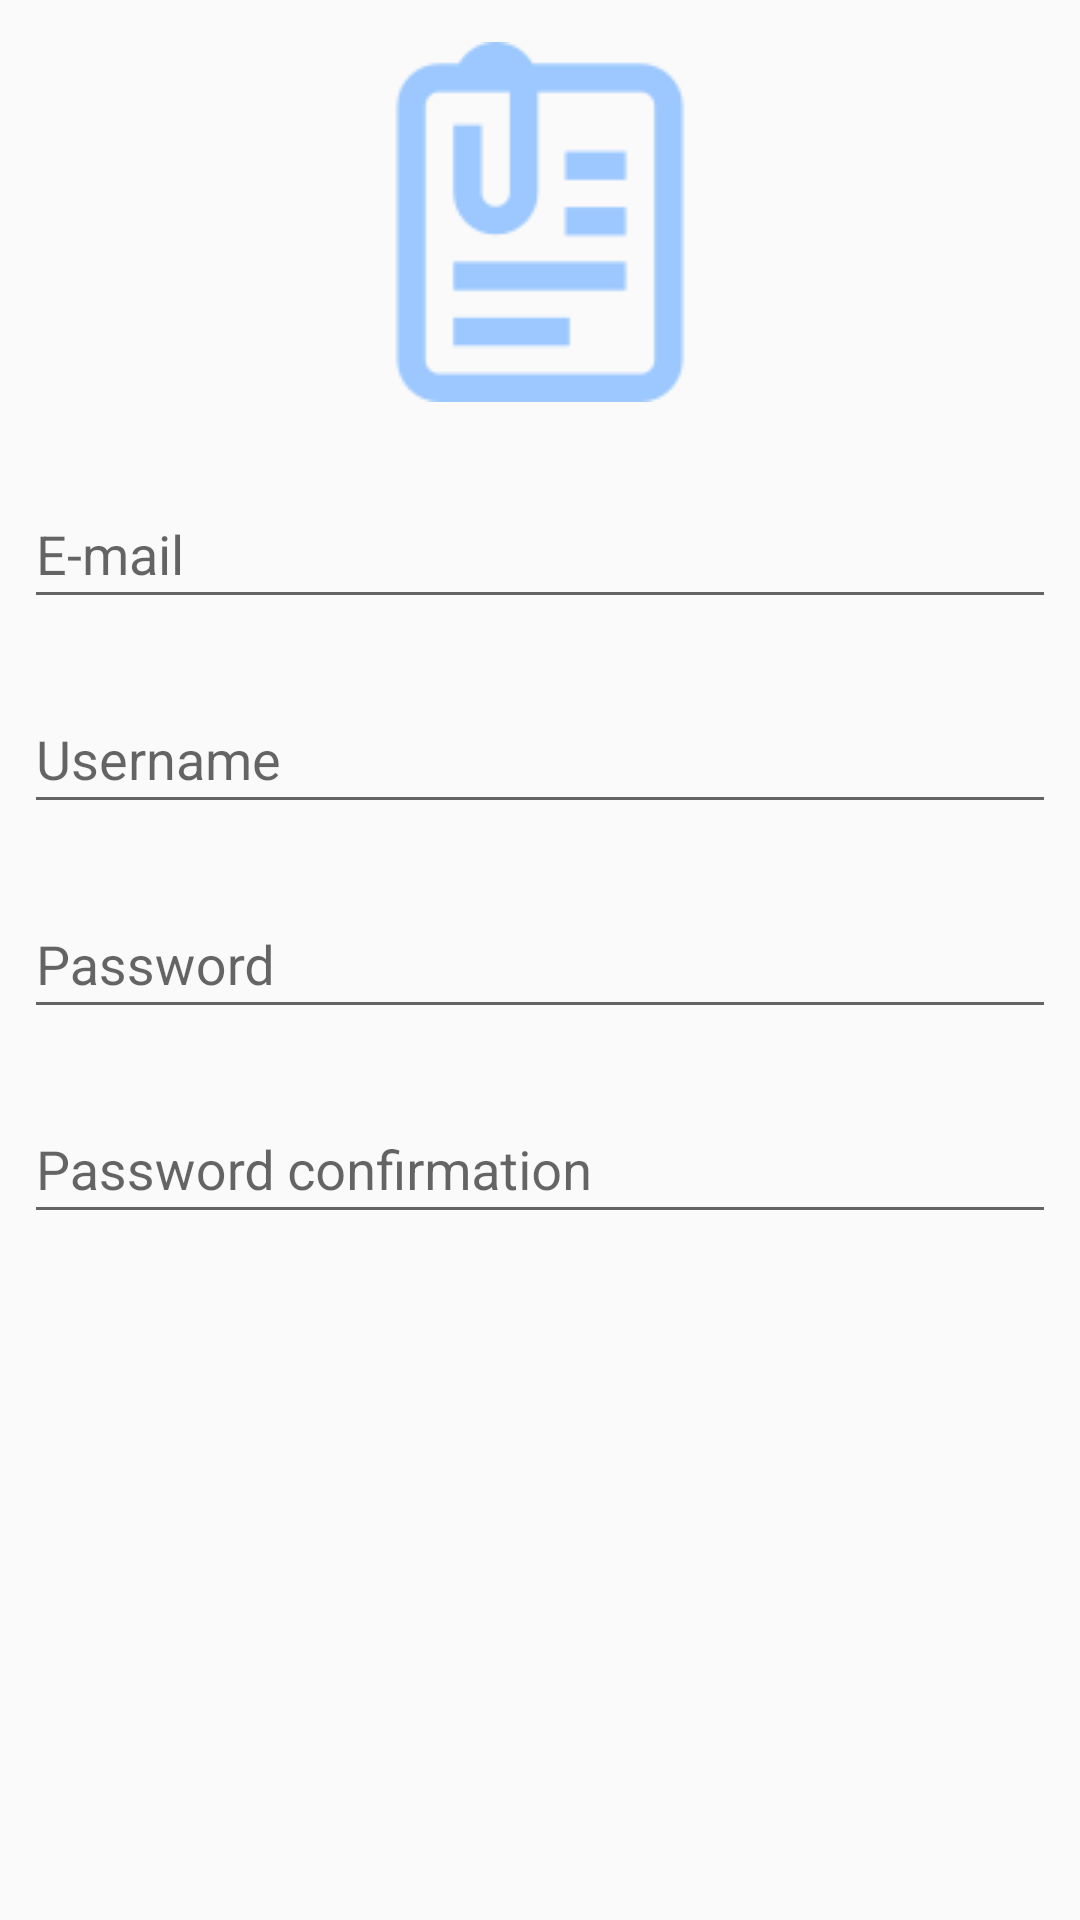

Locate icon controls on the screen. Image size 1080x1920, boxes as region(x1, y1, x2, y2).
clip: region(396, 42, 684, 402)
